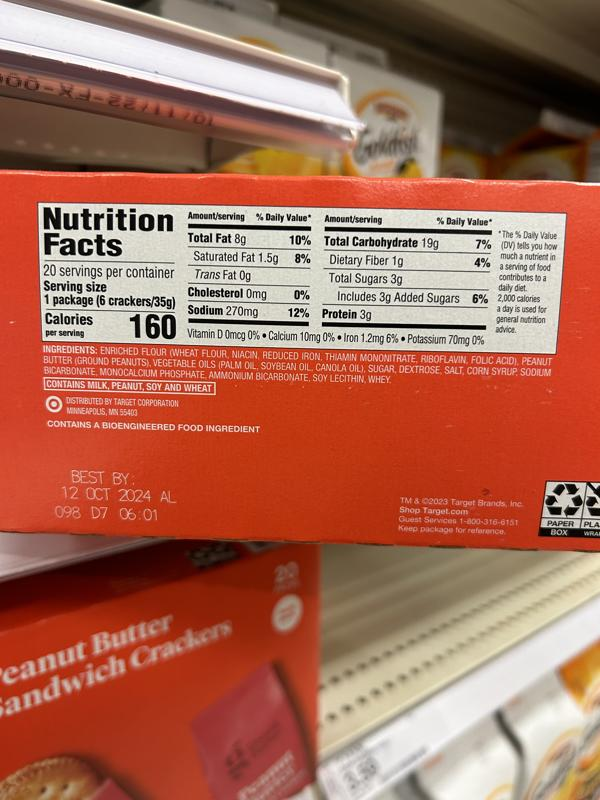ingredients: (40, 343, 555, 385)
